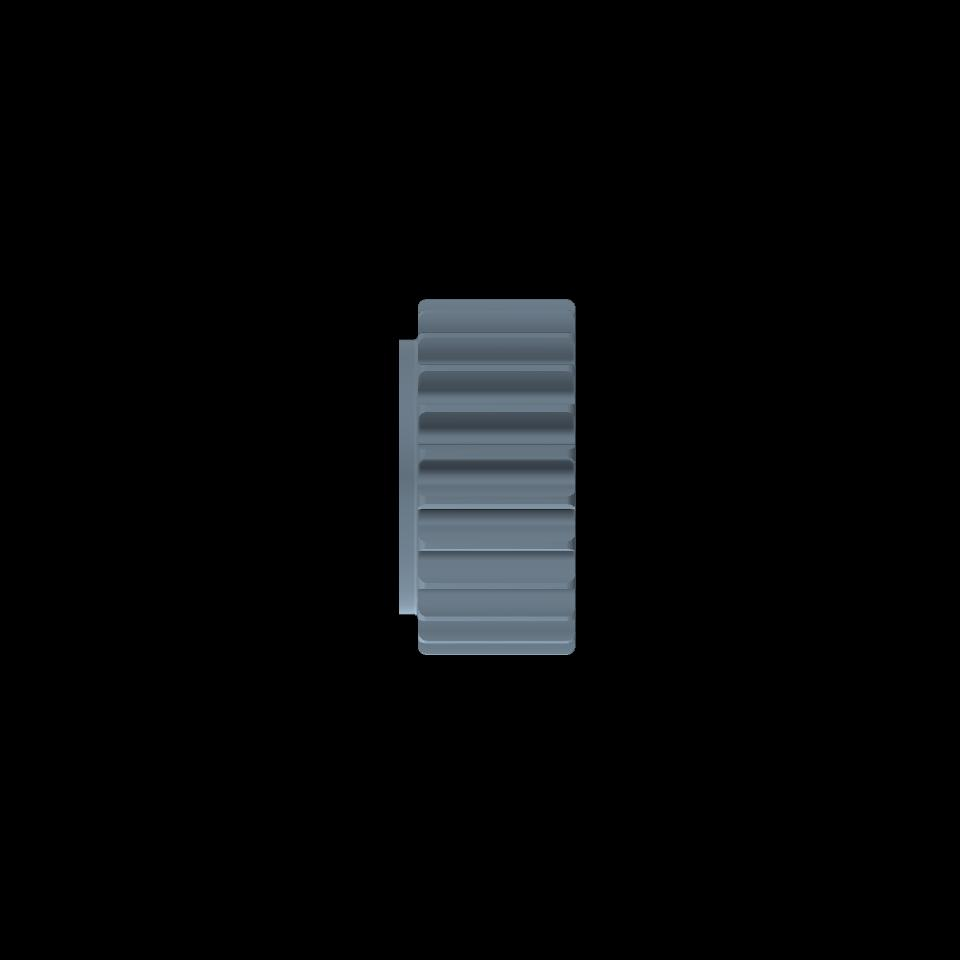Straight: (425, 299, 568, 654)
